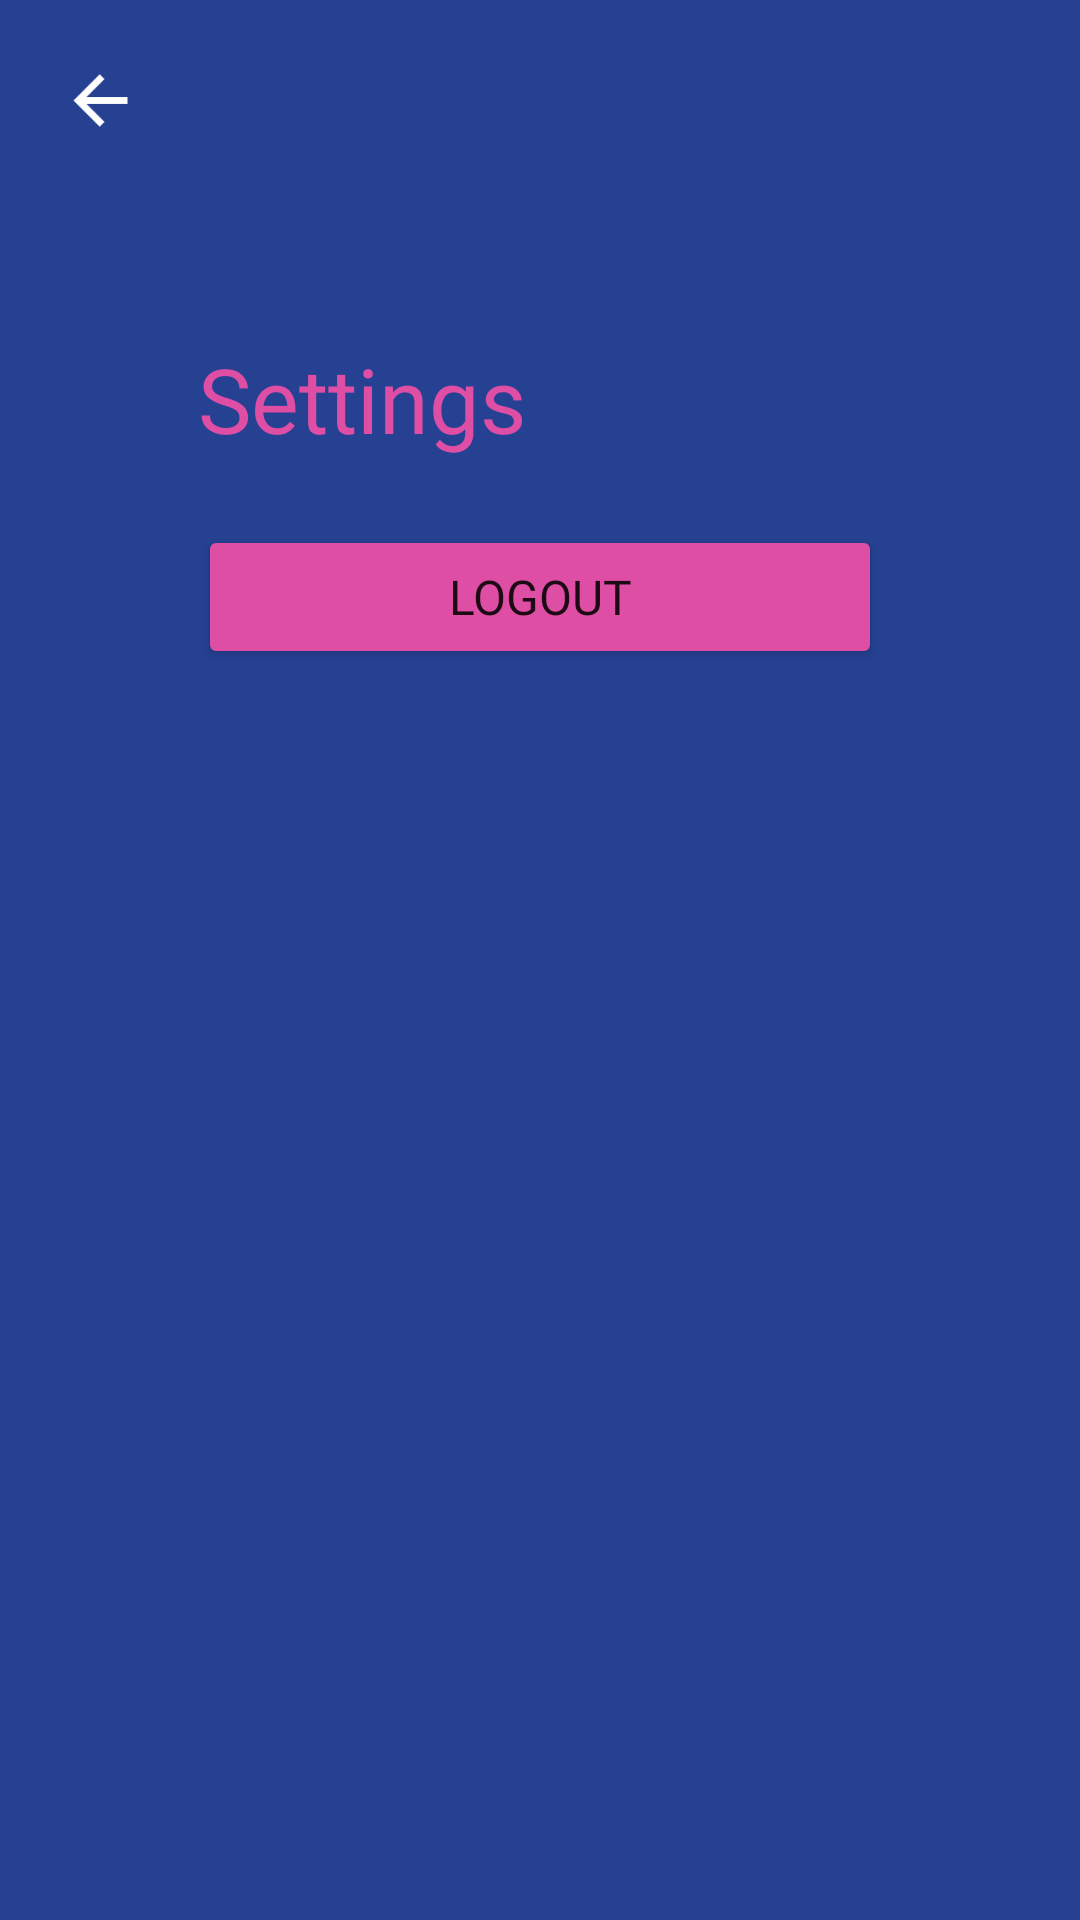

Where to tap for icons on this 1080 x 1920 app screen, as (x=x, y=y):
back: (x=100, y=100)
